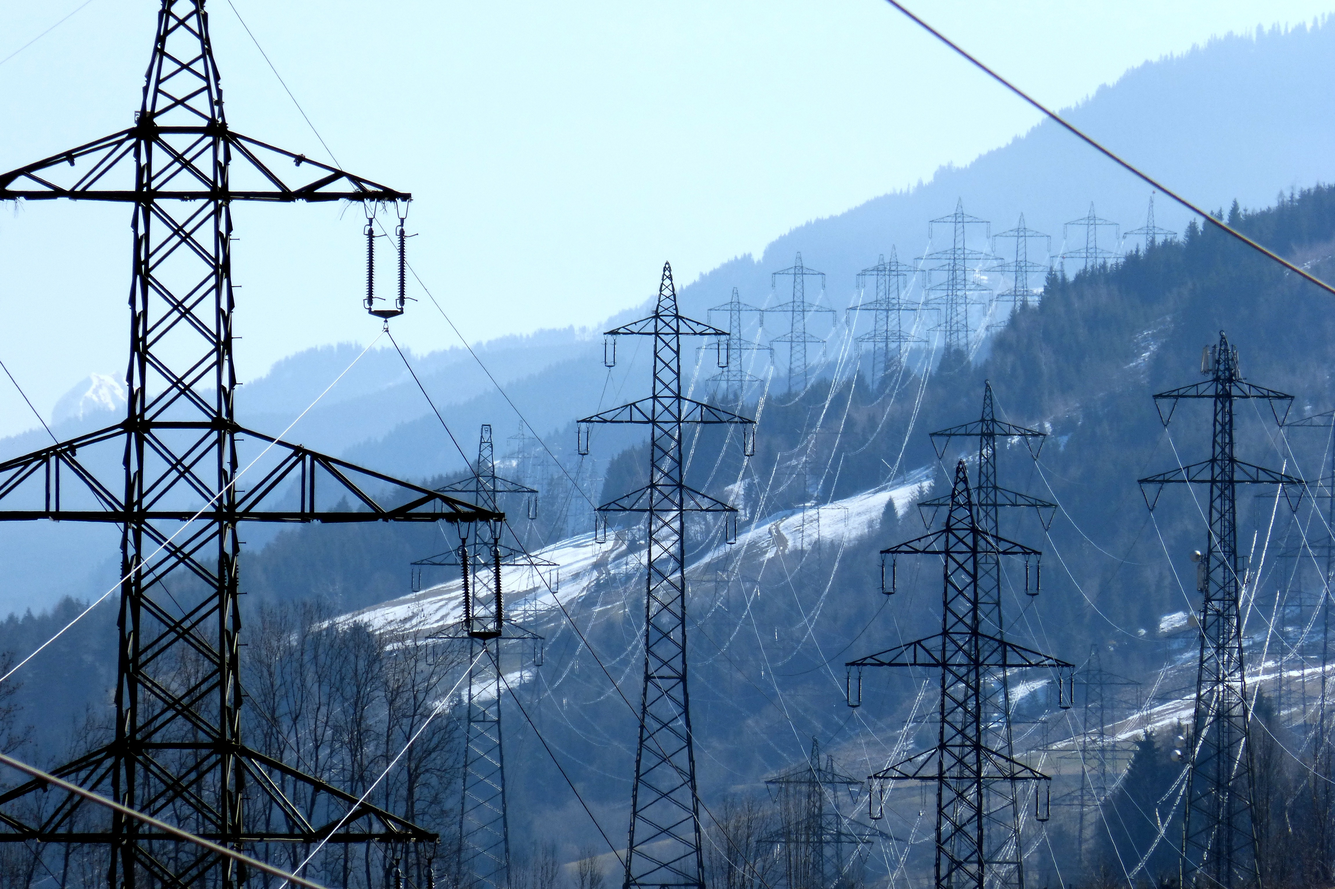insulator: (389, 226, 414, 313), (357, 225, 379, 312), (836, 666, 869, 714), (1031, 775, 1058, 827), (876, 551, 902, 597), (1054, 664, 1077, 713), (1022, 554, 1045, 601), (865, 778, 887, 823), (713, 336, 736, 373), (598, 335, 620, 370)
